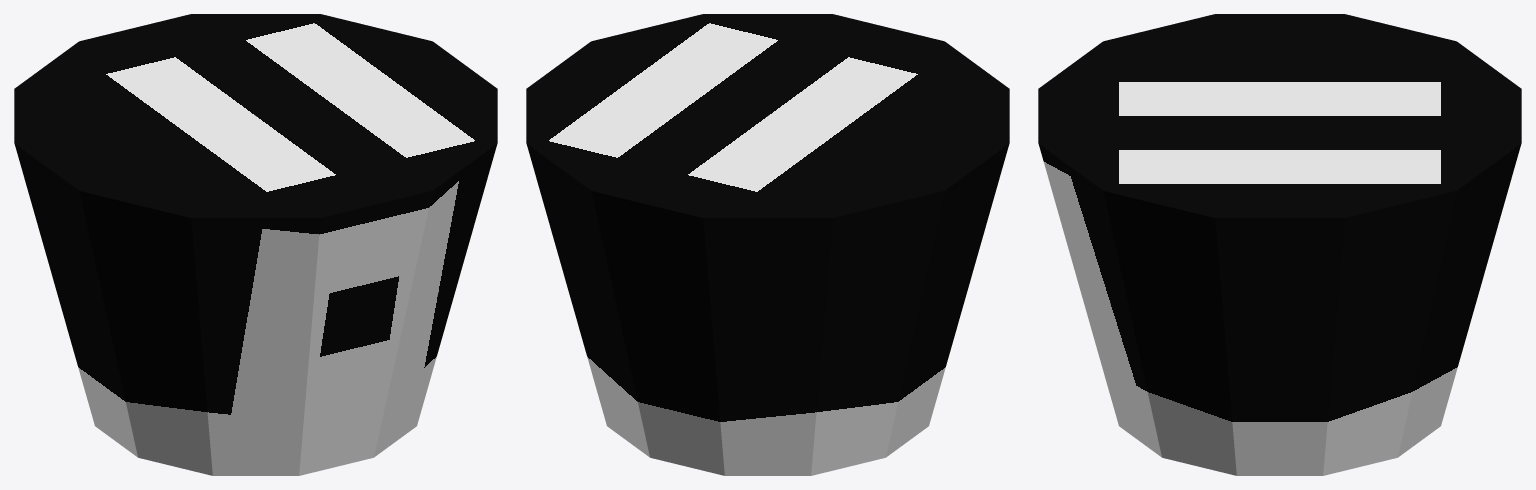
File: noodlecup.gltf
3 views of the same model, side by side, from view 1: azimuth 30°, elevation 25°; view 2: azimuth 150°, elevation 25°; view 3: azimuth 270°, elevation 25° (orthographic).
Parts seen in each view (by area): view 1: cylinder; view 2: cylinder; view 3: cylinder.
Part boxes in pixels (bbox=[...]): cylinder: bbox=[14, 14, 497, 475]; cylinder: bbox=[526, 14, 1009, 475]; cylinder: bbox=[1038, 14, 1521, 475].
Size of the model in its own units: 0.375 by 0.25 by 0.375.
1 material, 1 textured.
